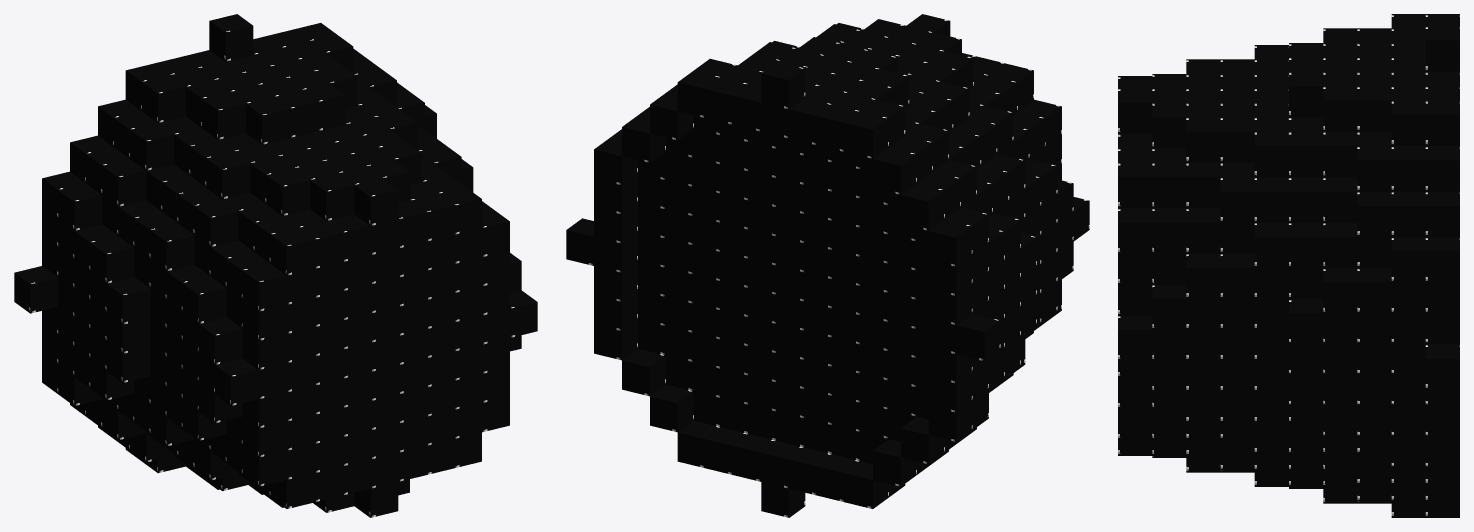
The model's file is bacinella_usv.gltf.
3 views of the same model, side by side, from view 1: azimuth 30°, elevation 25°; view 2: azimuth 150°, elevation 25°; view 3: azimuth 270°, elevation 25° (orthographic). The views are drawn at different scales.
Parts seen in each view (by area): view 1: Layer.1; view 2: Layer.1, Layer.2; view 3: Layer.1.
Part boxes in pixels (box(x1,y1,x2,y2)): Layer.1: box(14, 14, 537, 517); Layer.1: box(566, 14, 1089, 517); Layer.2: box(638, 122, 928, 461); Layer.1: box(1118, 14, 1459, 517).
Size of the model in its own units: 15 by 15 by 10.
Materials: 1 (1 with a texture image).
